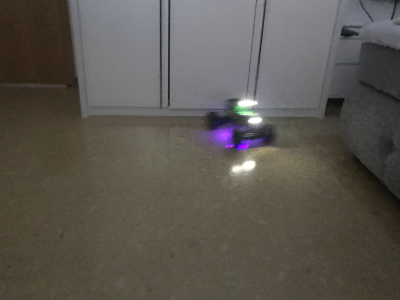remote control car: (204, 94, 276, 149)
